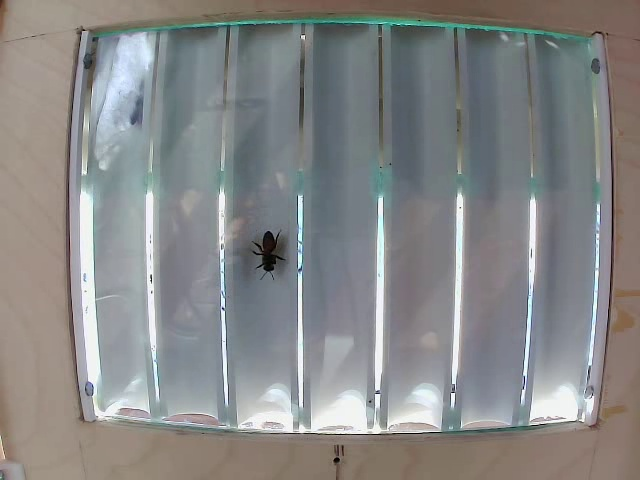bee: (251, 229, 289, 282)
